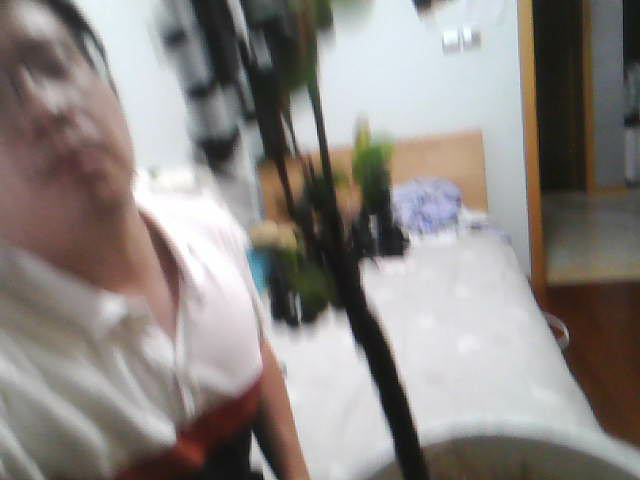blueberry: (247, 214, 296, 254), (191, 130, 240, 168), (292, 3, 334, 35), (153, 26, 193, 56)
